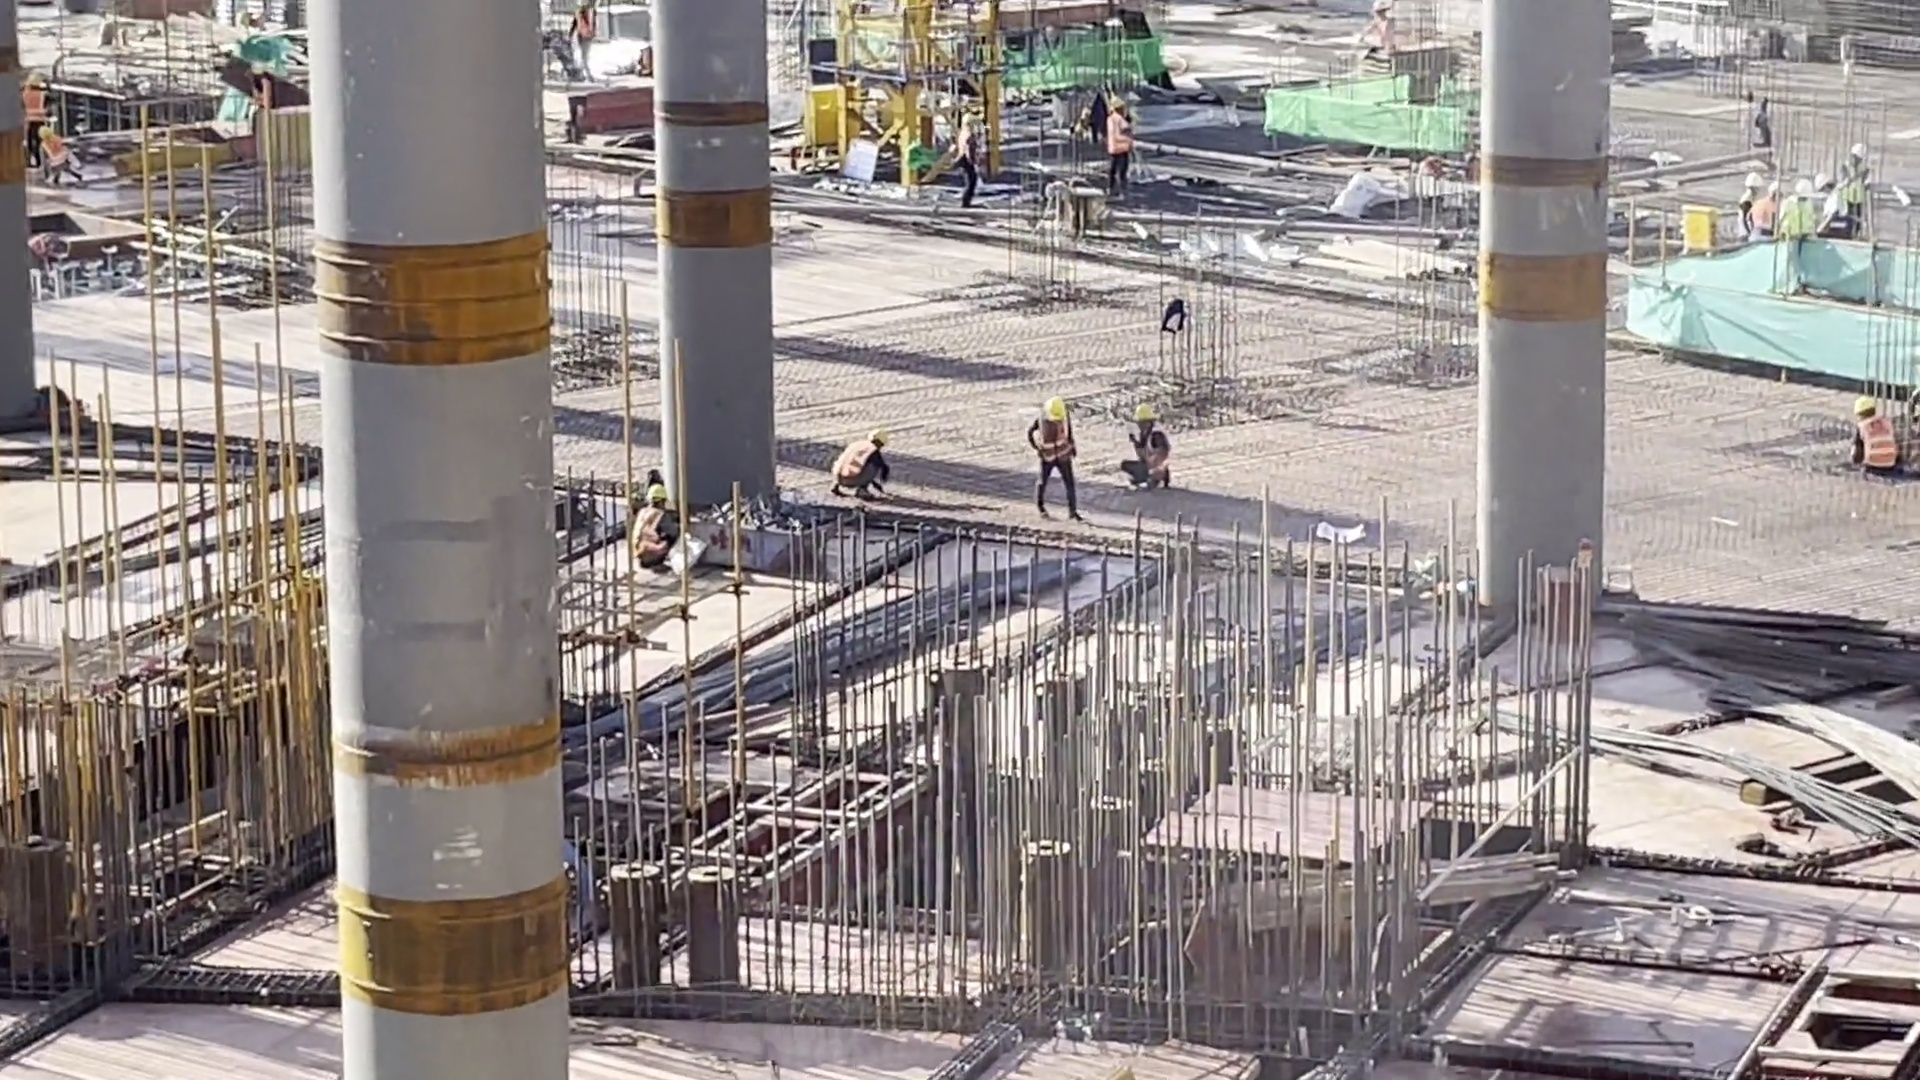helmet: (1130, 402, 1161, 427), (867, 422, 892, 446), (1042, 394, 1070, 415), (639, 481, 665, 504)
person: (1015, 378, 1099, 543), (1114, 395, 1193, 497), (1832, 393, 1908, 482), (628, 458, 677, 584), (1096, 79, 1144, 206), (828, 415, 890, 502), (1837, 128, 1878, 252), (29, 111, 88, 191), (951, 109, 995, 211), (1733, 165, 1778, 257), (1818, 157, 1854, 245), (13, 72, 56, 142), (1789, 178, 1817, 250)
vest: (1026, 408, 1083, 463), (834, 433, 879, 489), (1124, 431, 1175, 481), (1845, 419, 1897, 467), (630, 507, 671, 564), (952, 130, 982, 172), (1104, 111, 1134, 148)
